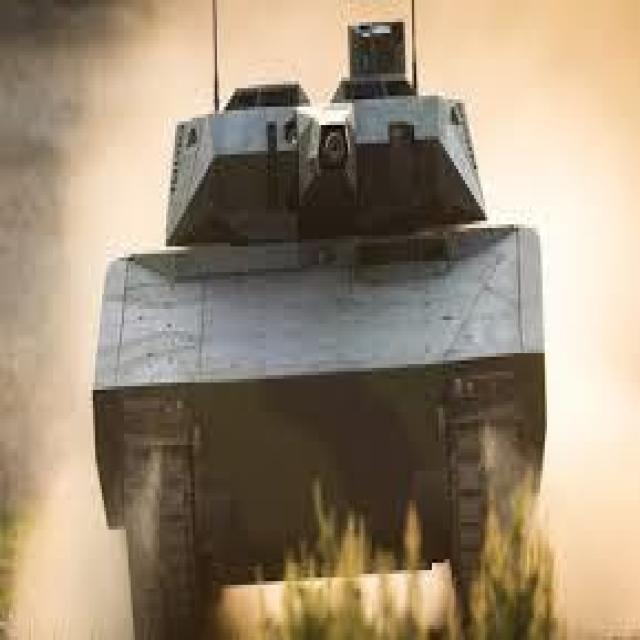MIL_MBT: (89, 53, 556, 605)
